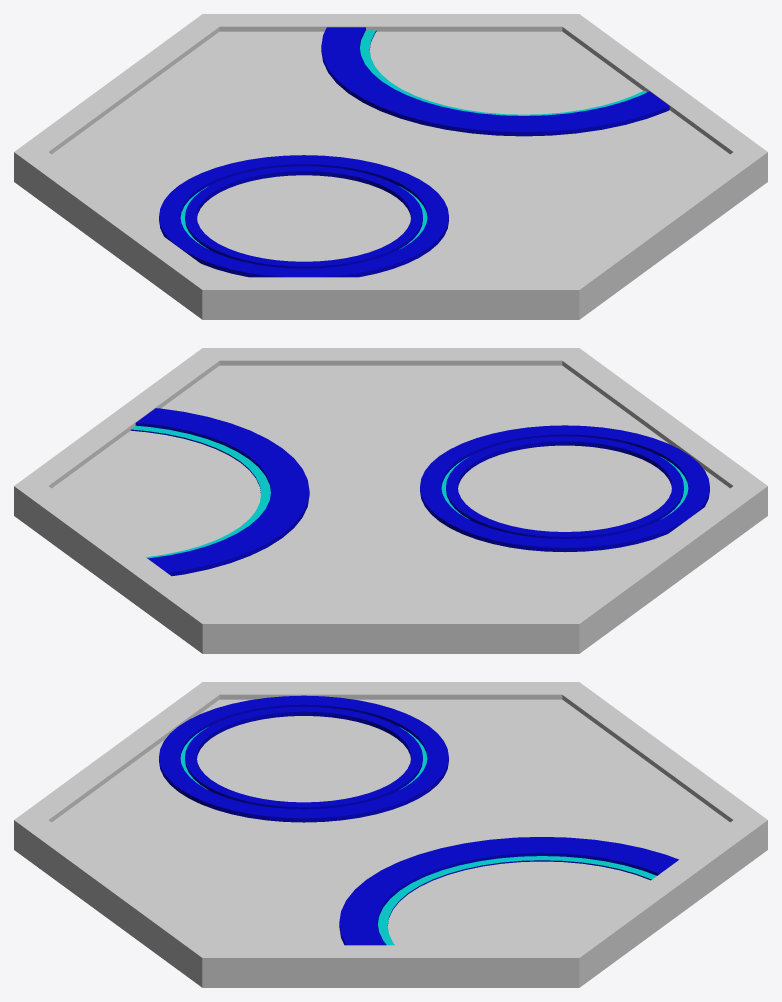
Rendered from placas_civi3.fbx.
3 views of the same model, one above another, from view 1: azimuth 30°, elevation 25°; view 2: azimuth 150°, elevation 25°; view 3: azimuth 270°, elevation 25° (orthographic).
Parts seen in each view (by area): view 1: placa_base_low, placa3_low; view 2: placa_base_low, placa3_low; view 3: placa_base_low, placa3_low.
Boxes of the visible parts, x1,y1,x2,y2 form: placa_base_low: (14, 14, 767, 319); placa3_low: (159, 27, 669, 277); placa_base_low: (14, 348, 767, 653); placa3_low: (130, 408, 709, 576); placa_base_low: (14, 682, 767, 987); placa3_low: (159, 695, 678, 945).
Bounding box in the file's own units: 346 × 17.47 × 400.
